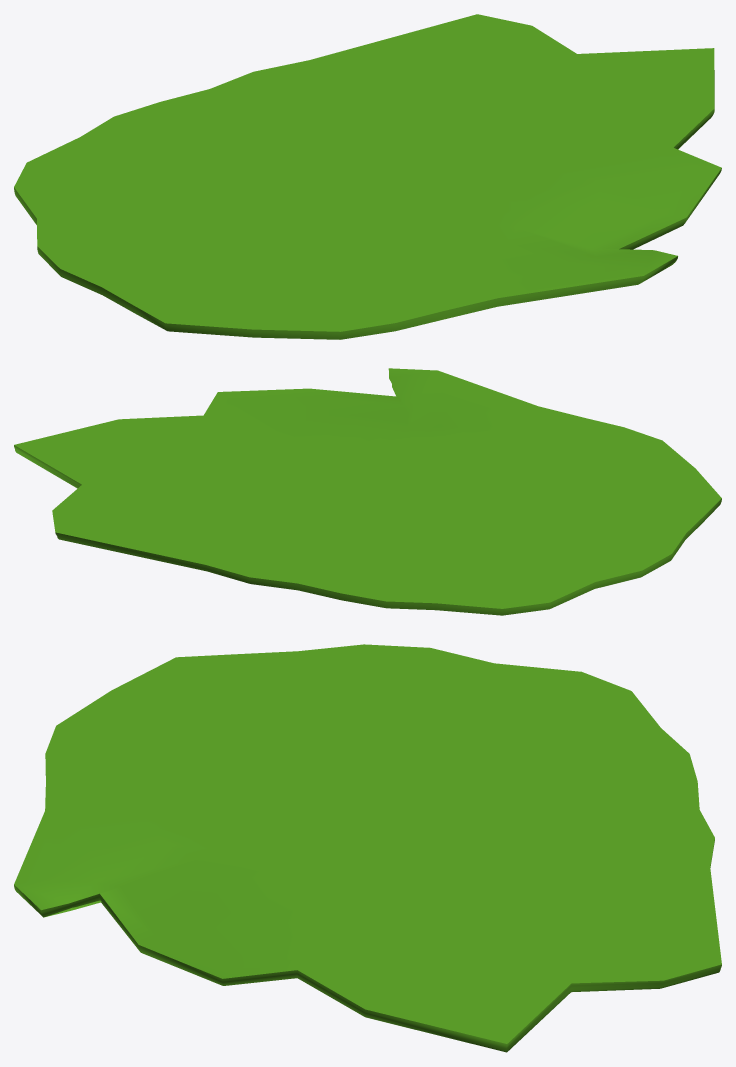
Rendered from SlimeSpill.fbx.
The picture shows the model from 3 angles, top to bottom: view 1: azimuth 30°, elevation 25°; view 2: azimuth 150°, elevation 25°; view 3: azimuth 270°, elevation 25°; orthographic projection. The views are drawn at different scales.
Parts seen in each view (by area): view 1: pCylinder1; view 2: pCylinder1; view 3: pCylinder1.
Boxes of the visible parts, x1,y1,x2,y2 form: pCylinder1: (14, 14, 721, 339); pCylinder1: (14, 368, 721, 615); pCylinder1: (14, 644, 721, 1052).
Bounding box in the file's own units: 25.65 × 0.4619 × 19.2.
